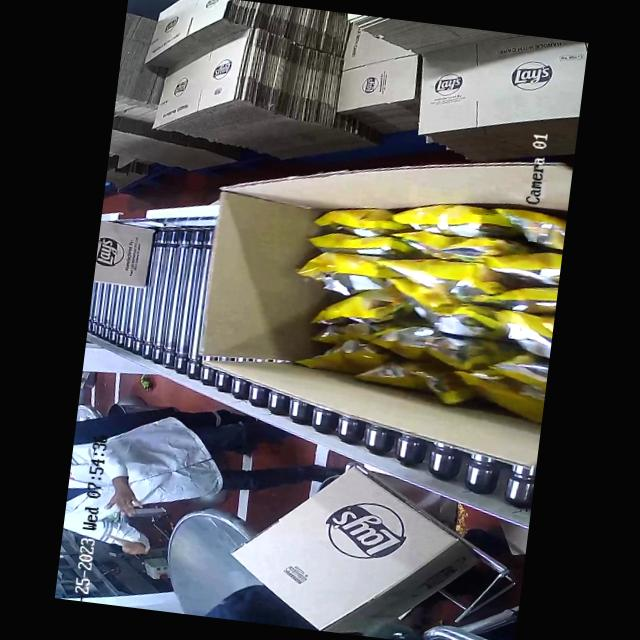salted: (298, 211, 562, 400)
